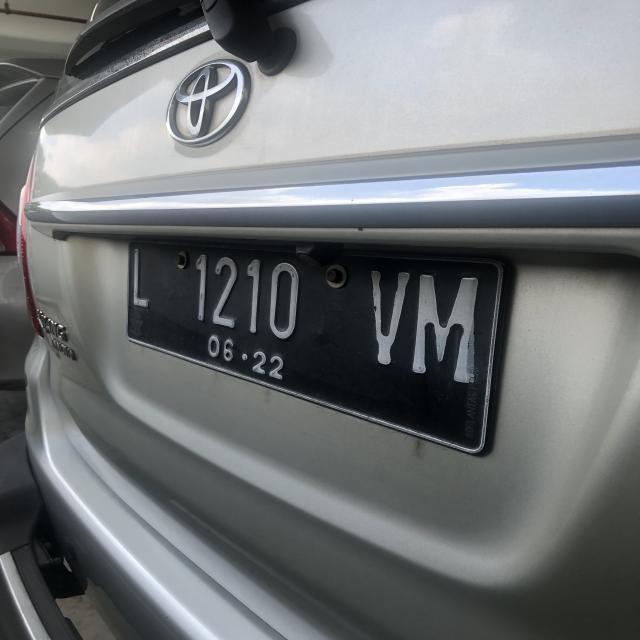0: (266, 256, 304, 340)
1: (239, 254, 270, 338), (188, 252, 210, 322)
2: (210, 258, 238, 329)
L: (128, 248, 152, 309)
M: (412, 265, 482, 387)
V: (369, 267, 409, 369)
